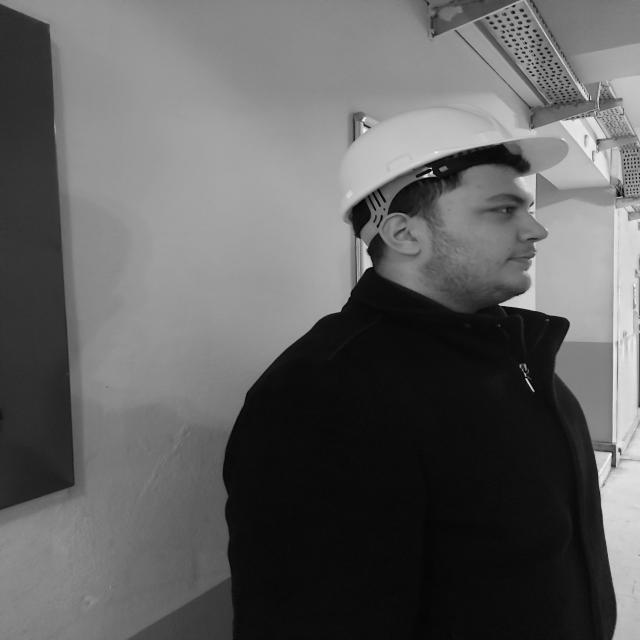safety_helmet: (338, 101, 568, 247)
